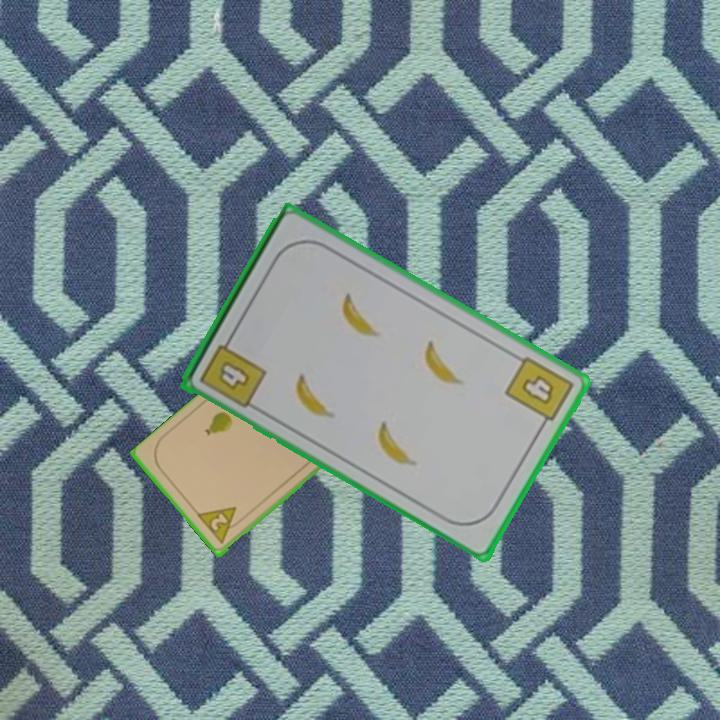2p: (194, 503, 246, 547)
4b: (501, 352, 577, 433), (196, 331, 270, 411)
